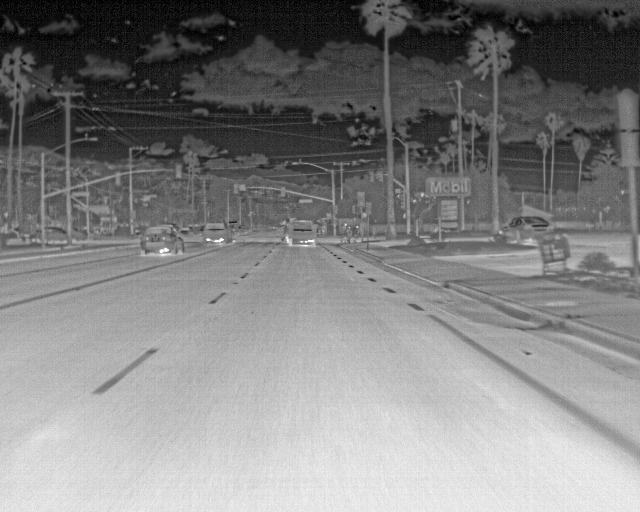car: (494, 216, 563, 247), (142, 225, 187, 256), (283, 219, 319, 248), (203, 223, 233, 243), (46, 225, 67, 242), (180, 225, 192, 238)
